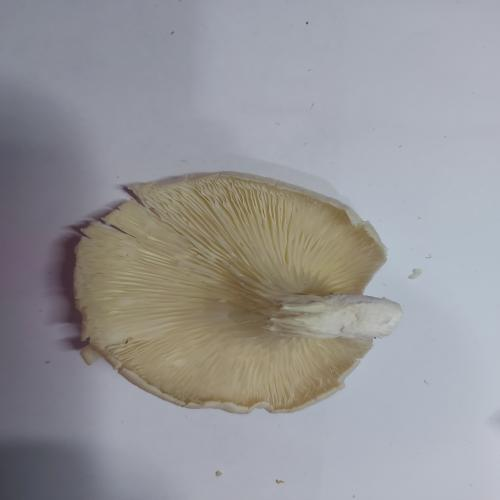Oyster Mushroom: (72, 170, 403, 415)
